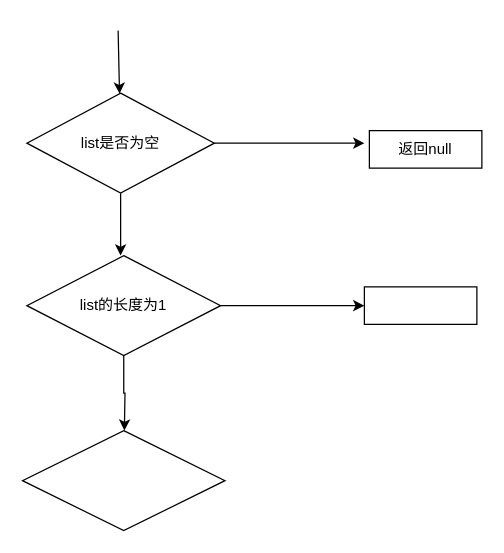
The diagram is 504 pixels wide and 553 high, and some of its shapes have lost their labels. The box of each missing label's shape, as (x1, y1, x2, y2) in pixels:
执行doSelect方法，具体的负载均衡方法: (21, 429, 225, 531)
直接返回: (363, 286, 477, 324)
